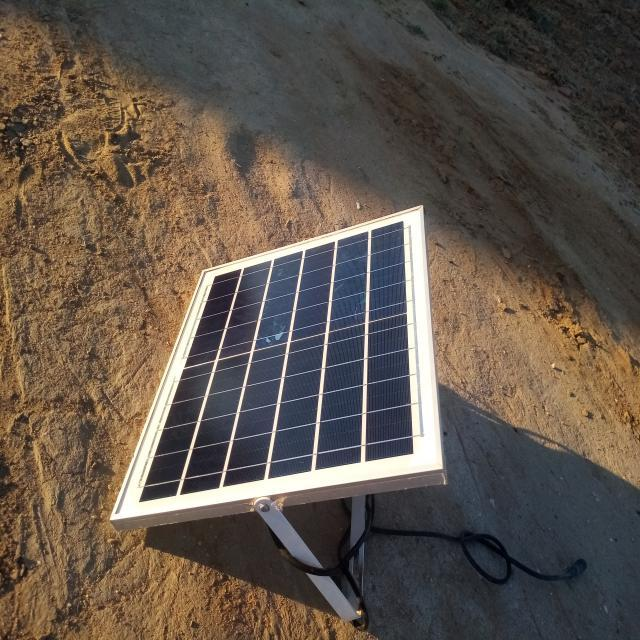no faulty: (113, 206, 444, 519)
